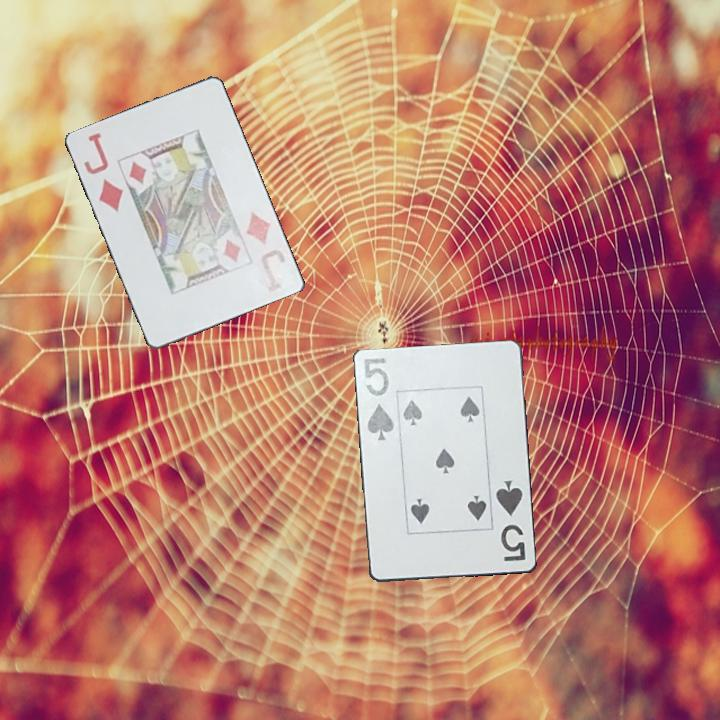5s: (360, 354, 397, 444), (493, 477, 529, 565)
Jd: (243, 208, 289, 295), (81, 129, 127, 215)
